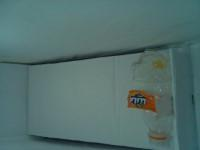bottle: (0, 51, 36, 149)
